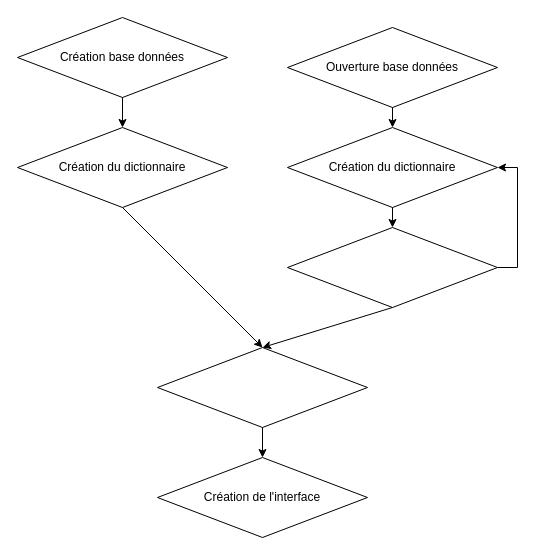
Image size: 543x555. Some labels were removed from this diagram. The shapes that lost their labels are listed below. From the top down, each one's box as (x1, y1, x2, y2) in pixels, then its label:
(286, 226, 498, 308): Vérification des mises à jour et application
(156, 346, 368, 428): Chargement des layers QGis
